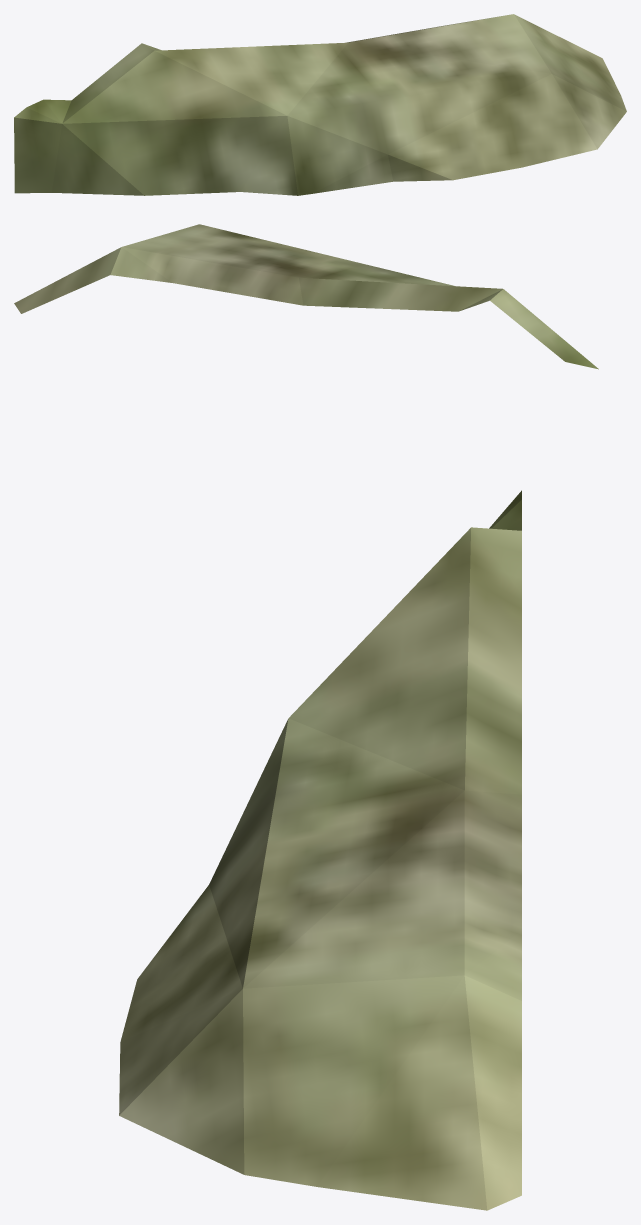
3 views of the same model, one above another, from view 1: azimuth 30°, elevation 25°; view 2: azimuth 150°, elevation 25°; view 3: azimuth 270°, elevation 25° (orthographic). The views are drawn at different scales.
Size of the model in its own units: 0.9868 by 0.1966 by 0.2967.
1 material, 1 textured.
